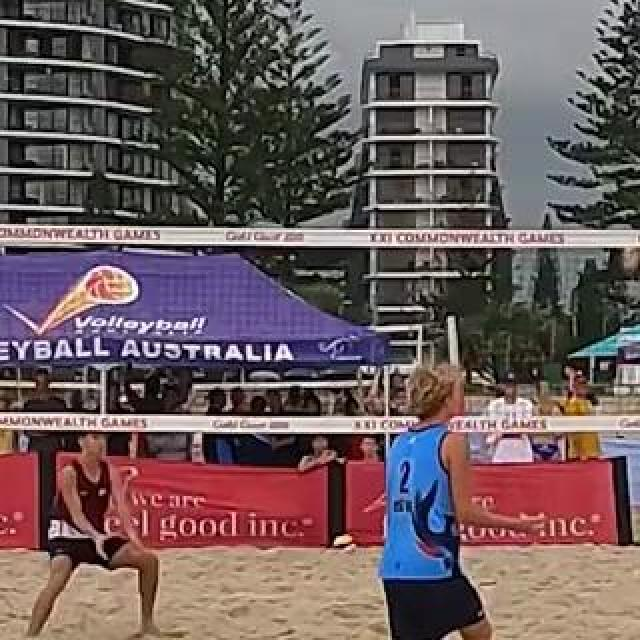volleyball: (335, 534, 357, 556)
